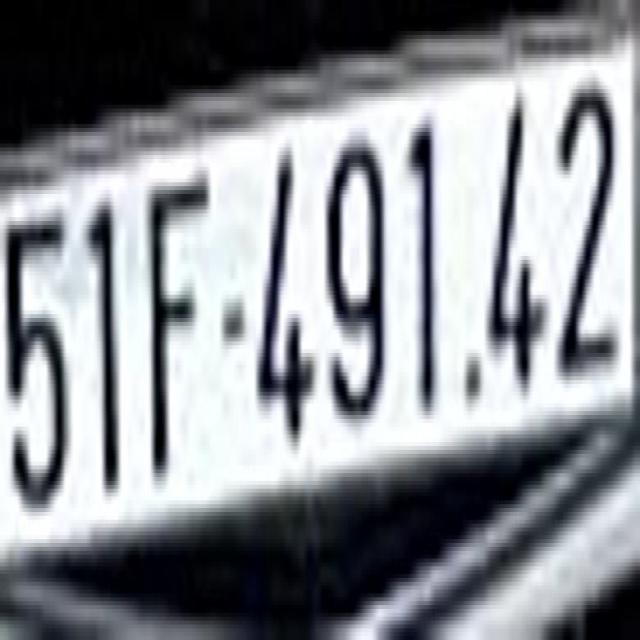1: (82, 187, 130, 500), (400, 101, 446, 419)
2: (555, 62, 623, 380)
4: (484, 70, 551, 388), (254, 128, 320, 442)
5: (3, 206, 71, 520)
9: (322, 120, 387, 427)
F: (142, 162, 210, 474)
